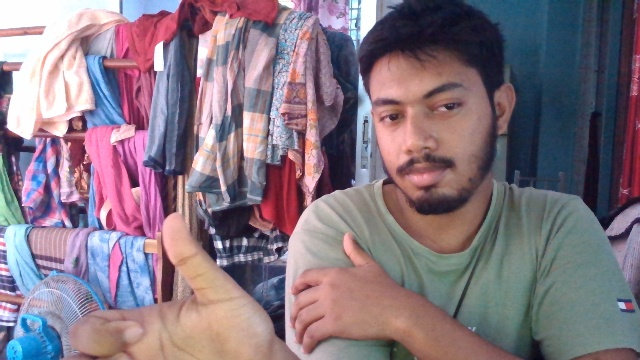yes: (44, 196, 274, 360)
